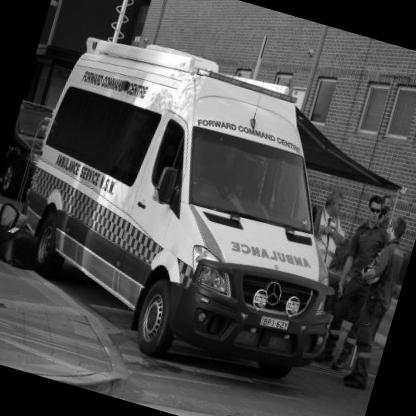ambulance: (1, 19, 402, 401)
